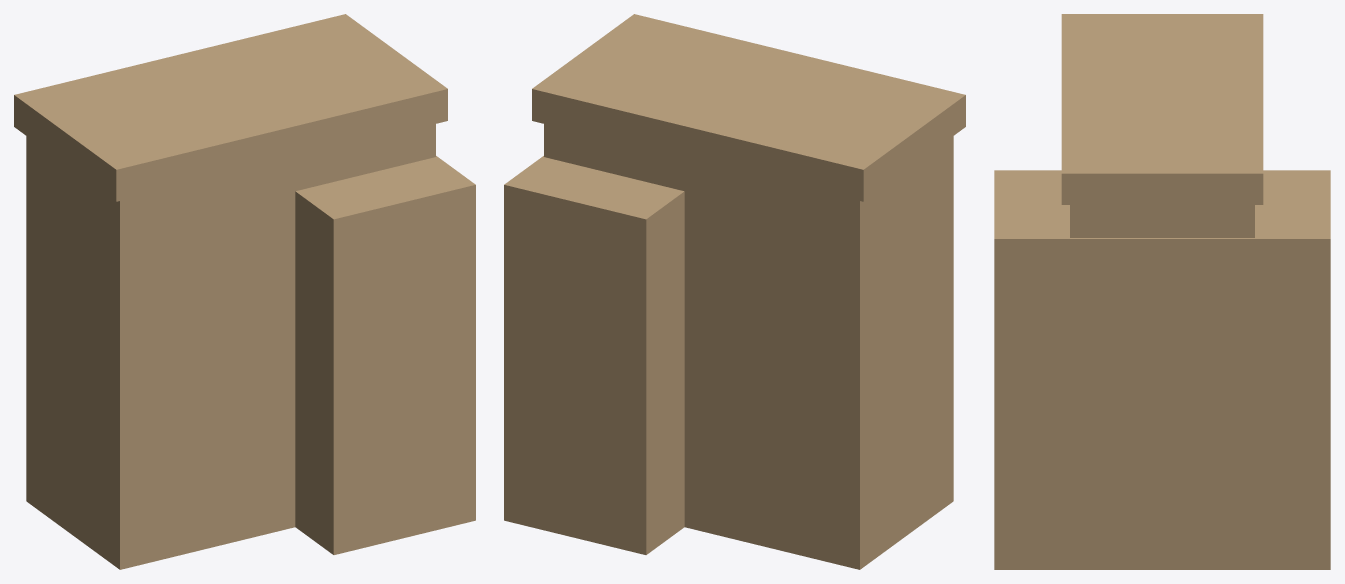
File: res_lwing_t1.glb
The picture shows the model from 3 angles, left to right: view 1: azimuth 30°, elevation 25°; view 2: azimuth 150°, elevation 25°; view 3: azimuth 270°, elevation 25°; orthographic projection.
Parts seen in each view (by area): view 1: res_lwing_t1; view 2: res_lwing_t1; view 3: res_lwing_t1.
Boxes of the visible parts, x1,y1,x2,y2 form: res_lwing_t1: (14, 14, 475, 569); res_lwing_t1: (504, 14, 965, 569); res_lwing_t1: (994, 14, 1330, 569).
Size of the model in its own units: 0.651 by 0.76 by 0.58.
